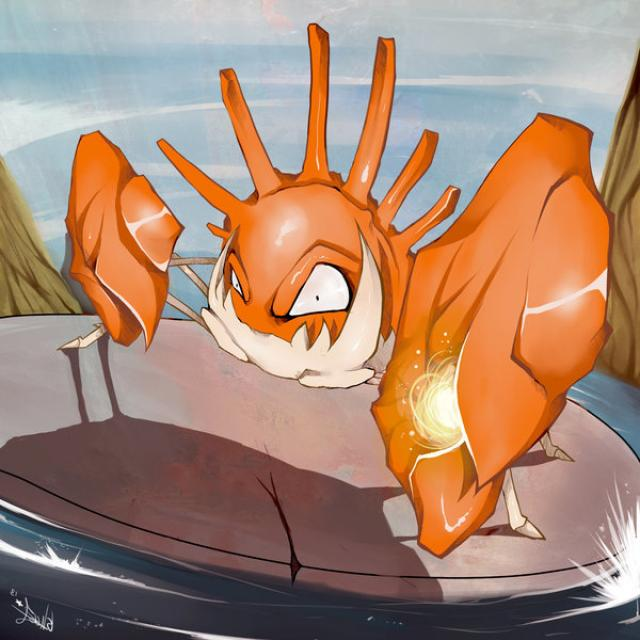Kingler: (61, 73, 616, 414)
